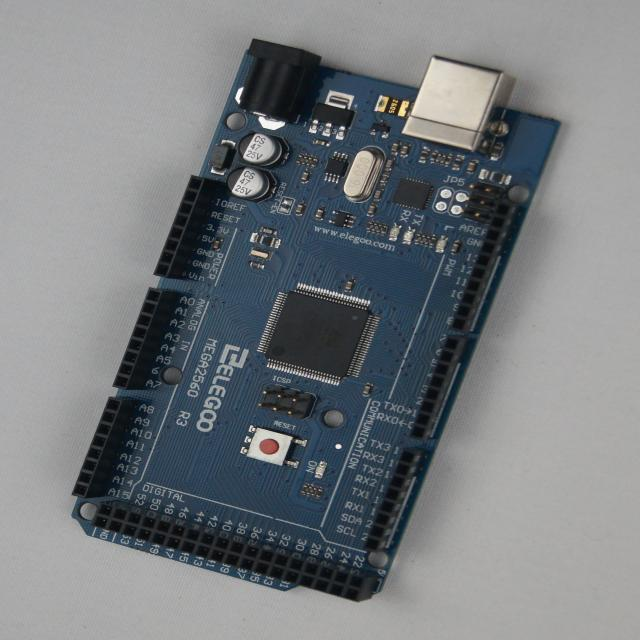Arduino Mega 2560 -Blue-: (73, 40, 560, 602)
